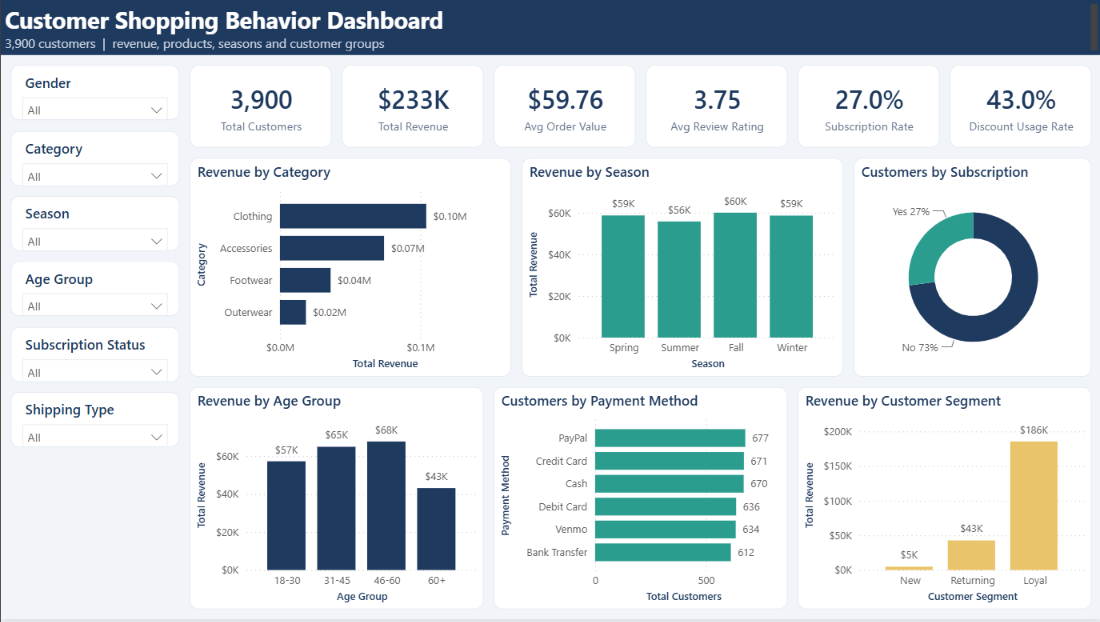

The page's visual inventory and layout, read from the dashboard file:
{"tool":"powerbi","page":{"name":"Overview","canvas":[1280,720],"ordinal":0},"visuals":[{"type":"textbox","box":[0,0,1280,64],"z":1000},{"type":"slicer","fields":{"Values":["Customers.Gender"]},"box":[12,76,196,64],"z":2000},{"type":"slicer","fields":{"Values":["Customers.Category"]},"box":[12,152,196,64],"z":3000},{"type":"slicer","fields":{"Values":["Customers.Season"]},"box":[12,228,196,64],"z":4000},{"type":"slicer","fields":{"Values":["Customers.Age Group"]},"box":[12,304,196,64],"z":5000},{"type":"slicer","fields":{"Values":["Customers.Subscription Status"]},"box":[12,380,196,64],"z":6000},{"type":"slicer","fields":{"Values":["Customers.Shipping Type"]},"box":[12,456,196,64],"z":7000},{"type":"card","title":"Customers","fields":{"Values":["Customers.Total Customers"]},"box":[220,76,164.7,96],"z":8000},{"type":"card","title":"Revenue","fields":{"Values":["Customers.Total Revenue"]},"box":[396.7,76,164.7,96],"z":9000},{"type":"card","title":"Avg Order Value","fields":{"Values":["Customers.Avg Order Value"]},"box":[573.3,76,164.7,96],"z":10000},{"type":"card","title":"Avg Rating","fields":{"Values":["Customers.Avg Review Rating"]},"box":[750,76,164.7,96],"z":11000},{"type":"card","title":"Subscription Rate","fields":{"Values":["Customers.Subscription Rate"]},"box":[926.7,76,164.7,96],"z":12000},{"type":"card","title":"Discount Usage","fields":{"Values":["Customers.Discount Usage Rate"]},"box":[1103.3,76,164.7,96],"z":13000},{"type":"clusteredBarChart","title":"Revenue by Category","fields":{"Category":["Customers.Category"],"Y":["Customers.Total Revenue"]},"box":[220,184,373.8,254],"z":14000},{"type":"clusteredColumnChart","title":"Revenue by Season","fields":{"Category":["Customers.Season"],"Y":["Customers.Total Revenue"]},"box":[605.8,184,373.8,254],"z":15000},{"type":"donutChart","title":"Customers by Subscription","fields":{"Category":["Customers.Subscription Status"],"Y":["Customers.Total Customers"]},"box":[991.6,184,276.3,254],"z":16000},{"type":"clusteredColumnChart","title":"Revenue by Age Group","fields":{"Category":["Customers.Age Group"],"Y":["Customers.Total Revenue"]},"box":[220,450,341.3,258],"z":17000},{"type":"clusteredBarChart","title":"Customers by Payment Method","fields":{"Category":["Customers.Payment Method"],"Y":["Customers.Total Customers"]},"box":[573.3,450,341.3,258],"z":18000},{"type":"clusteredColumnChart","title":"Revenue by Customer Segment","fields":{"Category":["Customers.Customer Segment"],"Y":["Customers.Total Revenue"]},"box":[926.6,450,341.3,258],"z":19000}]}

Visuals, with their boxes in screenshot pixels (x1, y1, x2, y2), scaled from the page's 1280x720 canvas onto the 1100x622 screenshot:
textbox: bbox=[0, 0, 1099, 55]
slicer - Customers.Gender: bbox=[10, 66, 179, 121]
slicer - Customers.Category: bbox=[10, 131, 179, 187]
slicer - Customers.Season: bbox=[10, 197, 179, 252]
slicer - Customers.Age Group: bbox=[10, 263, 179, 318]
slicer - Customers.Subscription Status: bbox=[10, 328, 179, 384]
slicer - Customers.Shipping Type: bbox=[10, 394, 179, 449]
"Customers" card: bbox=[189, 66, 331, 149]
"Revenue" card: bbox=[341, 66, 482, 149]
"Avg Order Value" card: bbox=[493, 66, 634, 149]
"Avg Rating" card: bbox=[645, 66, 786, 149]
"Subscription Rate" card: bbox=[796, 66, 938, 149]
"Discount Usage" card: bbox=[948, 66, 1090, 149]
"Revenue by Category" clusteredBarChart: bbox=[189, 159, 510, 378]
"Revenue by Season" clusteredColumnChart: bbox=[521, 159, 842, 378]
"Customers by Subscription" donutChart: bbox=[852, 159, 1090, 378]
"Revenue by Age Group" clusteredColumnChart: bbox=[189, 389, 482, 612]
"Customers by Payment Method" clusteredBarChart: bbox=[493, 389, 786, 612]
"Revenue by Customer Segment" clusteredColumnChart: bbox=[796, 389, 1090, 612]
